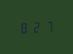eight: (18, 20, 29, 34)
seven: (43, 19, 54, 33)
two: (31, 20, 42, 33)
